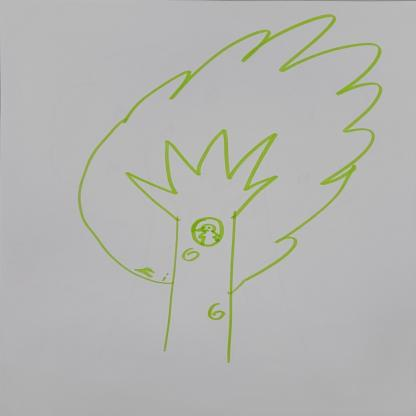bird: (191, 224, 227, 248)
branch_sharp: (123, 128, 280, 210)
crown_cloud: (69, 15, 385, 290)
knot: (205, 301, 226, 322), (182, 246, 204, 264)
trunk_straight: (168, 252, 237, 334)
